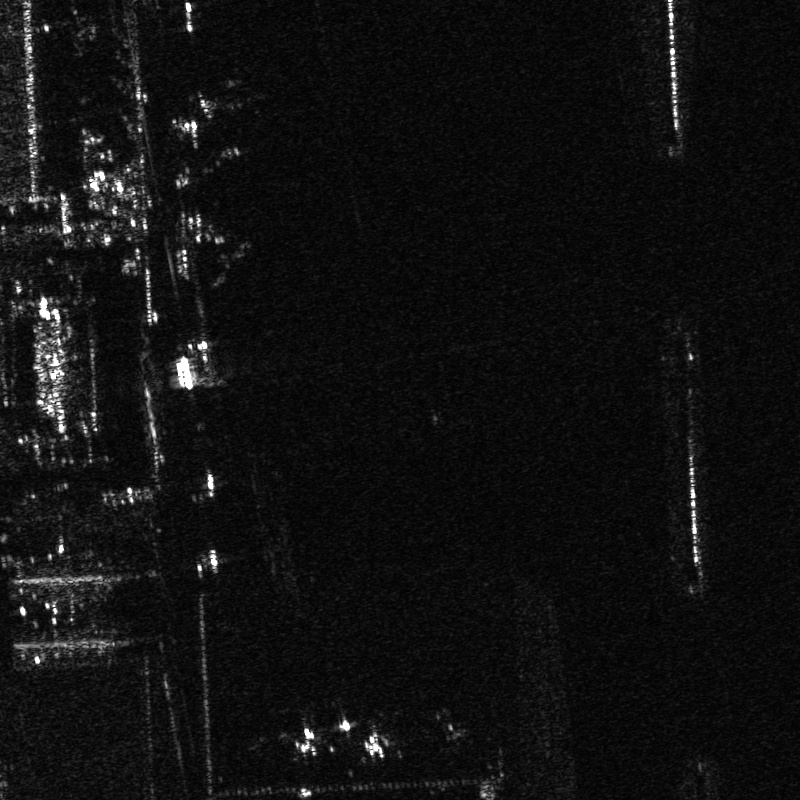ARJ21: (277, 719, 328, 765)
other: (202, 72, 283, 119), (346, 714, 399, 764)
